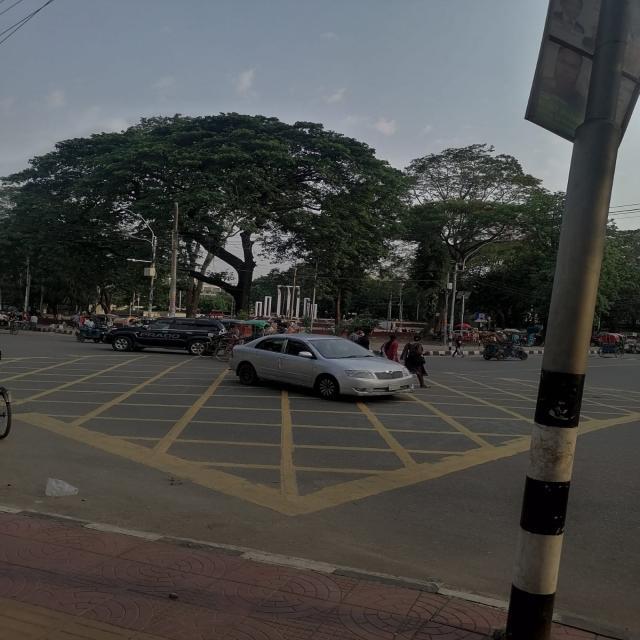person: (400, 334, 430, 388), (382, 334, 399, 364), (359, 328, 372, 349), (348, 327, 364, 343)
